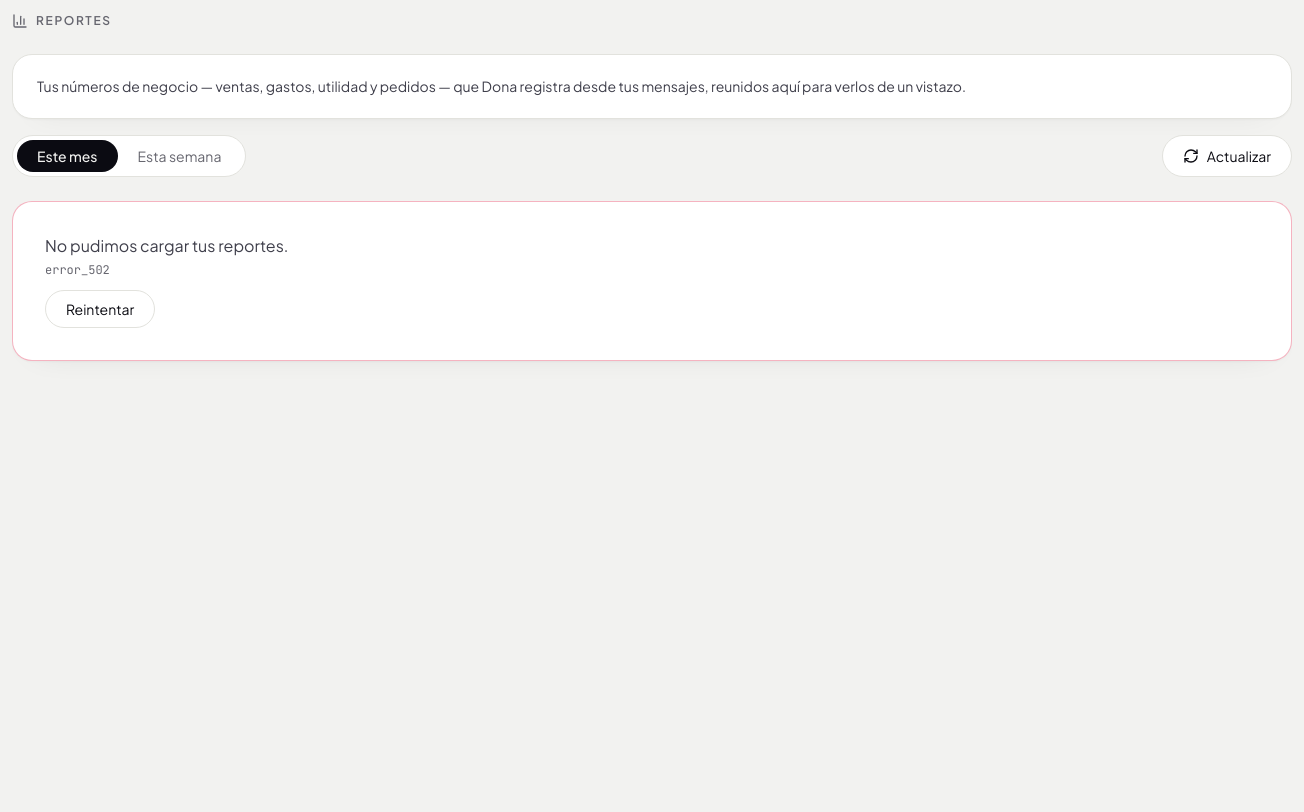
Test: SeccionReportes · error real › 502 → muestra código y botón Reintentar recarga
Expected: the text "No pudimos cargar tus reportes." is shown, [45,235,288,256]
Expected: the text "error_502" is shown, [45,262,110,278]
Click the button "Reintentar" at (100, 309), box [45,290,155,328]
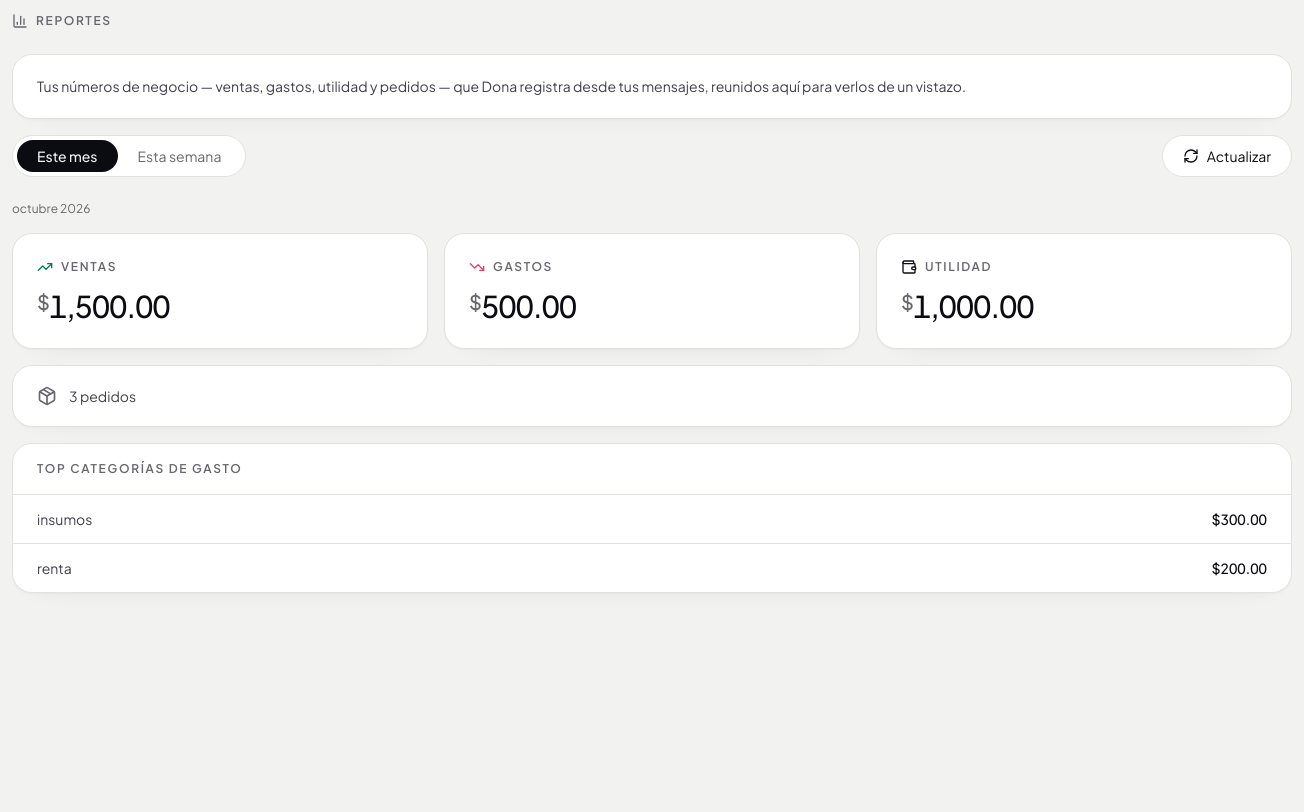
Expected: the text "Ventas" is shown, [61,258,117,276]
